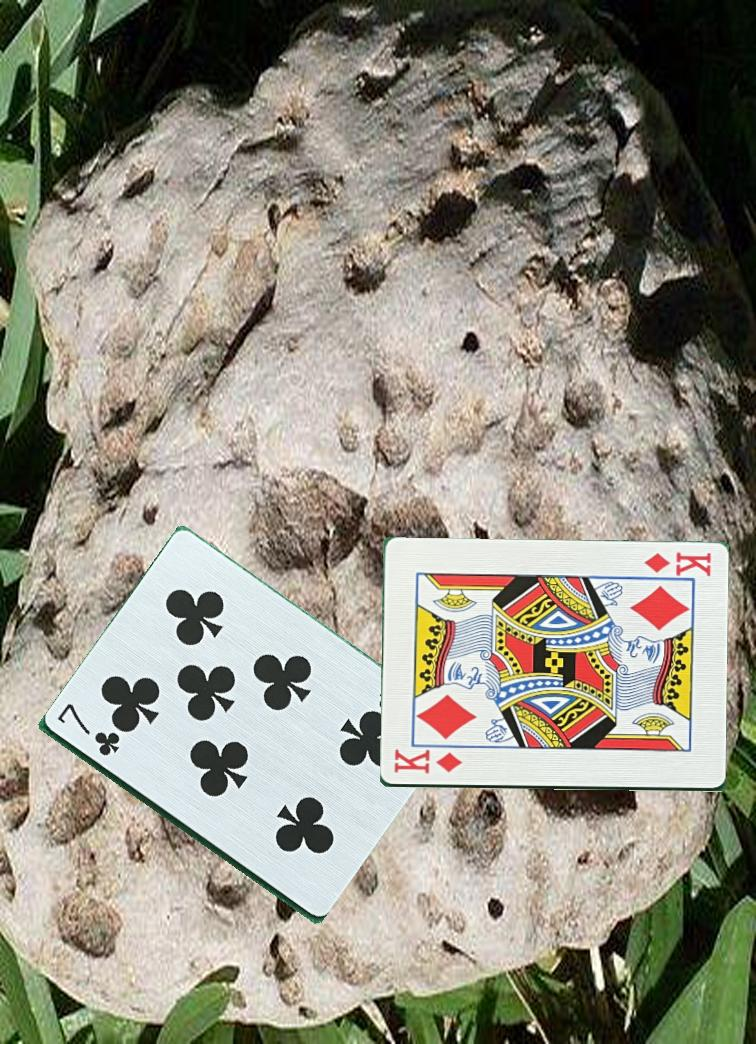7c: (54, 702, 124, 759)
kd: (640, 548, 713, 579), (390, 750, 464, 777)
